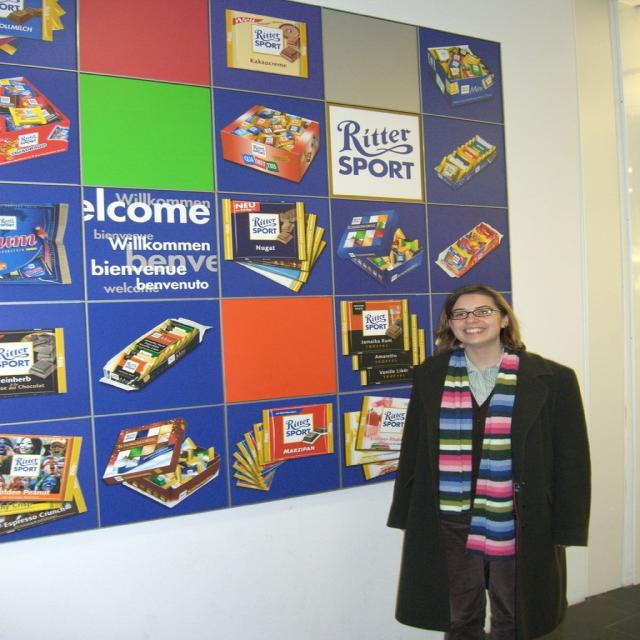rittersport: (326, 103, 427, 202), (2, 341, 40, 380), (249, 23, 288, 57), (246, 212, 286, 244), (282, 413, 317, 447), (359, 309, 393, 339), (9, 453, 45, 479), (379, 406, 410, 436), (17, 131, 43, 151)
